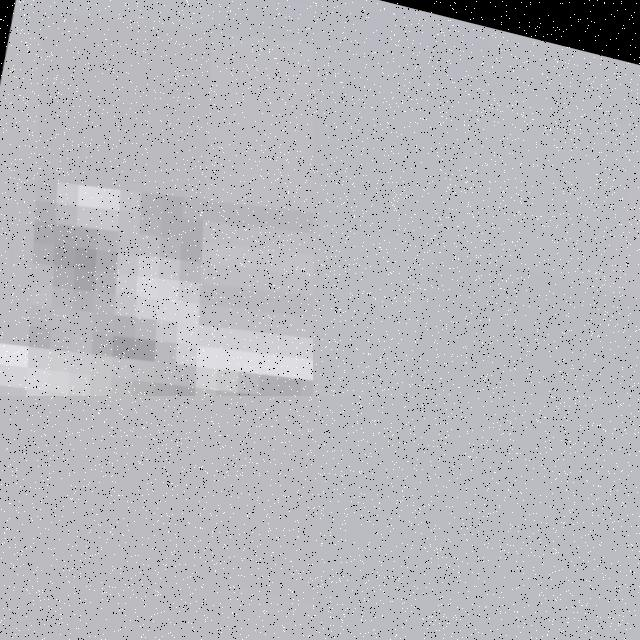drone: (0, 0, 313, 396)
